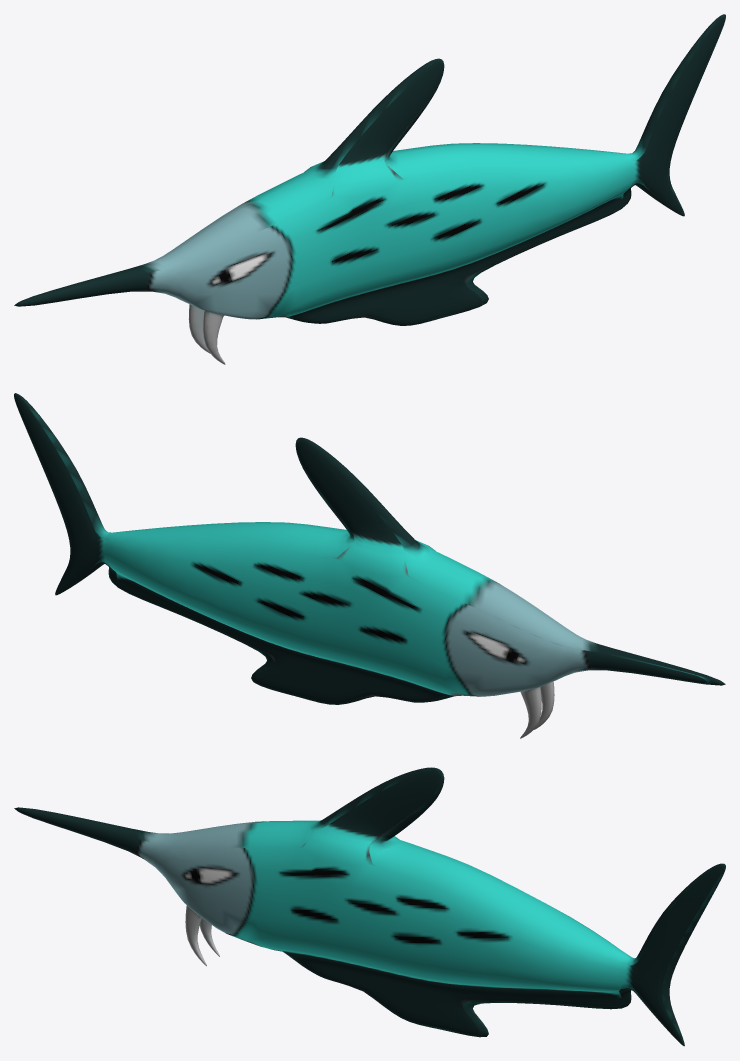
File: fish-0.obj
The picture shows the model from 3 angles, top to bottom: view 1: azimuth 30°, elevation 25°; view 2: azimuth 150°, elevation 25°; view 3: azimuth 330°, elevation 25°; orthographic projection.
Visible parts, largest first — view 1: Fish.000_Cube.1536; view 2: Fish.000_Cube.1536; view 3: Fish.000_Cube.1536.
Part boxes in pixels (x1=…): Fish.000_Cube.1536: x1=14, y1=14, x2=725, y2=364; Fish.000_Cube.1536: x1=14, y1=393, x2=725, y2=738; Fish.000_Cube.1536: x1=14, y1=767, x2=725, y2=1046.
Size of the model in its own units: 5.46 by 1.91 by 0.5432.
Materials: 1 (1 with a texture image).
